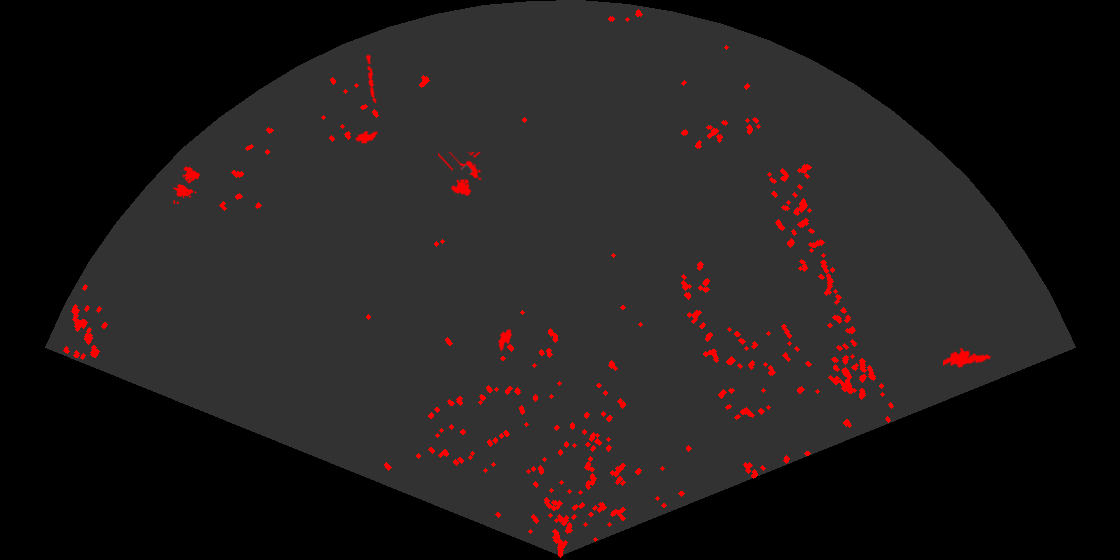AUV: (497, 327, 514, 353), (354, 129, 380, 146)
cage: (438, 152, 483, 198), (173, 165, 202, 204)
chain: (364, 54, 378, 105)
frogman: (943, 346, 993, 369)
